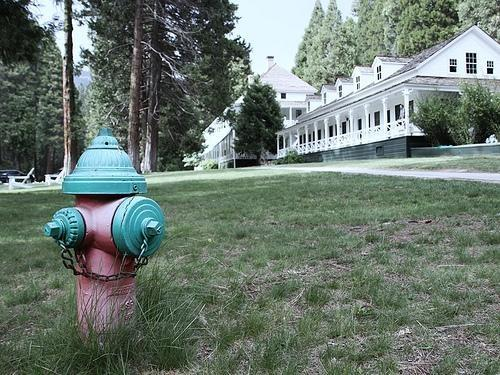car: (0, 168, 36, 186), (0, 170, 28, 186)
